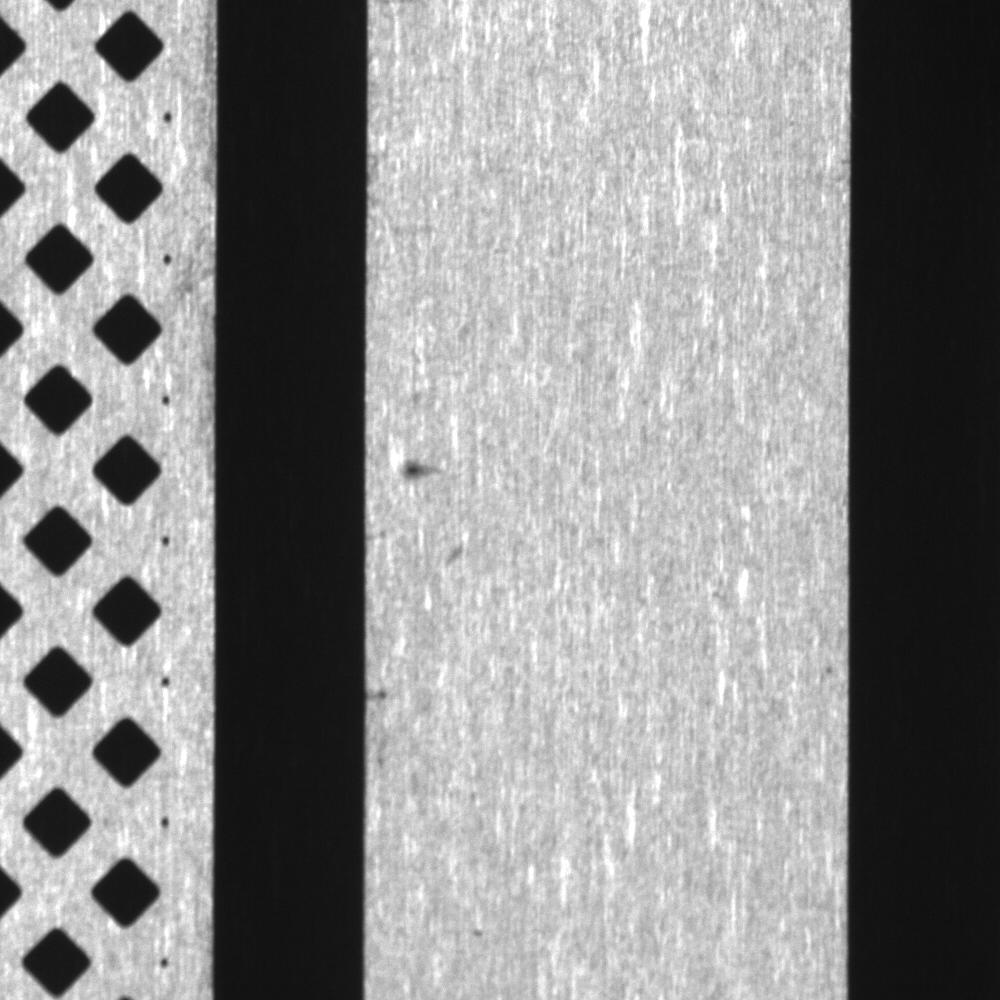Etching: (390, 442, 467, 494), (366, 678, 395, 775), (437, 536, 473, 578)
